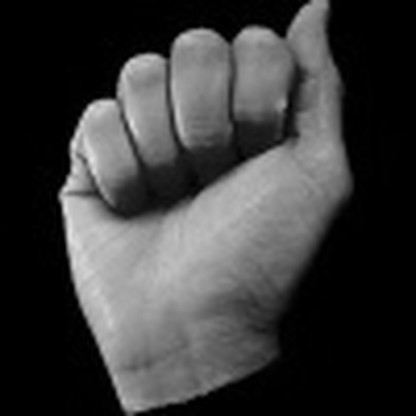a: (40, 1, 359, 412)
